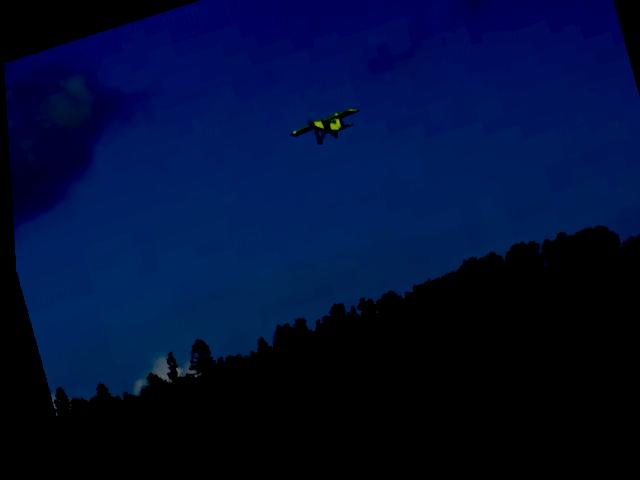plane: (286, 113, 362, 159)
